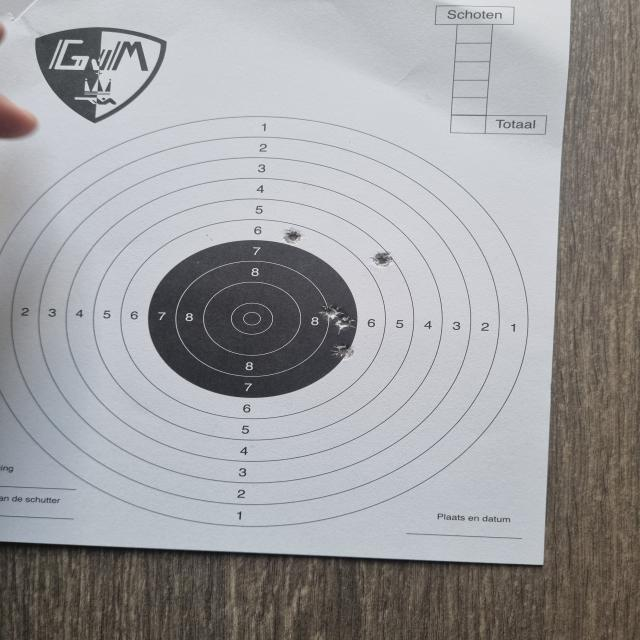5: (369, 250, 398, 266)
6: (280, 226, 305, 244)
7: (332, 342, 357, 362), (335, 315, 354, 330)
8: (321, 304, 344, 319)
Target: (0, 117, 536, 529)
black_contour: (147, 240, 356, 398)
